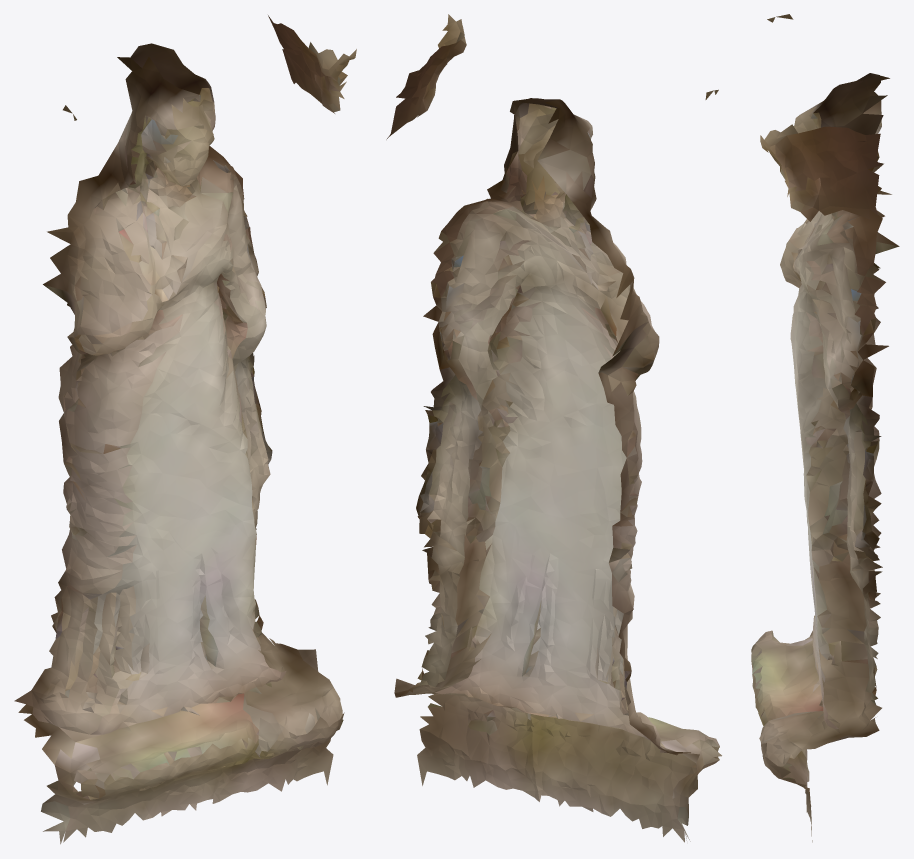
File: celsus-arete.glb
The picture shows the model from 3 angles, left to right: view 1: azimuth 30°, elevation 25°; view 2: azimuth 150°, elevation 25°; view 3: azimuth 270°, elevation 25°; orthographic projection. The views are drawn at different scales.
Visible parts, largest first — view 1: Object_11; view 2: Object_11; view 3: Object_11.
Boxes of the visible parts, x1=… form: Object_11: x1=14, y1=15, x2=356, y2=844; Object_11: x1=386, y1=14, x2=721, y2=842; Object_11: x1=751, y1=14, x2=899, y2=842.
Size of the model in its own units: 0.4524 by 1.13 by 0.2146.
1 material, 1 textured.
